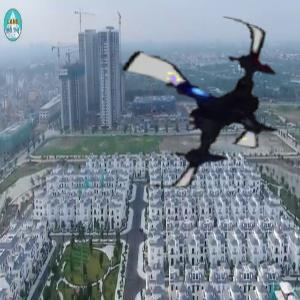drone: (101, 6, 297, 202)
